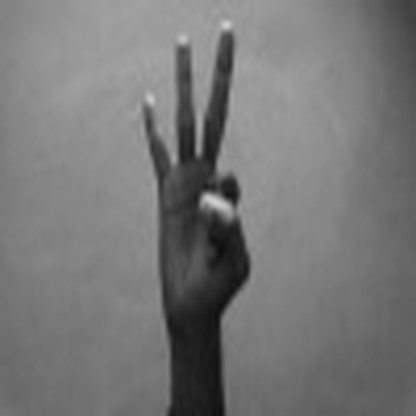f: (126, 17, 263, 324)
